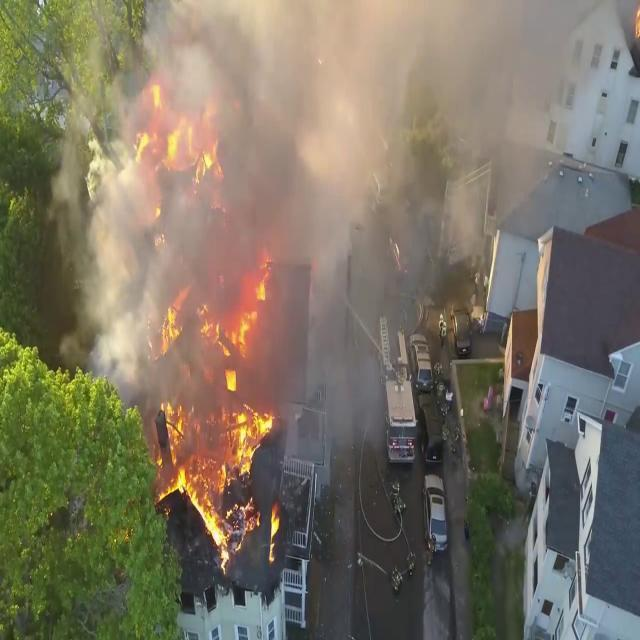Fire: (150, 271, 280, 557)
Smoke: (70, 0, 617, 437)
